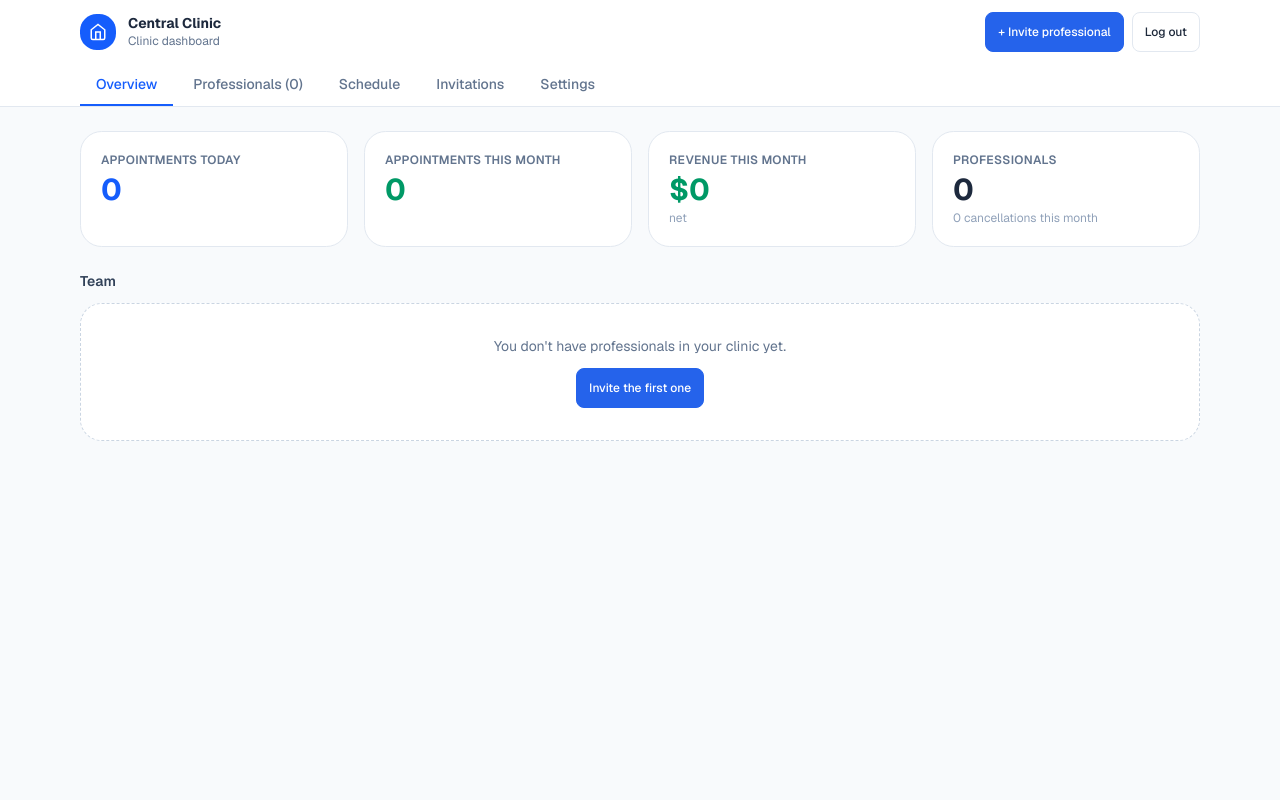
Test case: ClinicaDashboard › renders English agenda and invitation empty states
Expected: the text "Clinic dashboard" is shown, [128, 33, 221, 49]
Click the button "Schedule".
click(370, 85)  # box [323, 64, 416, 106]
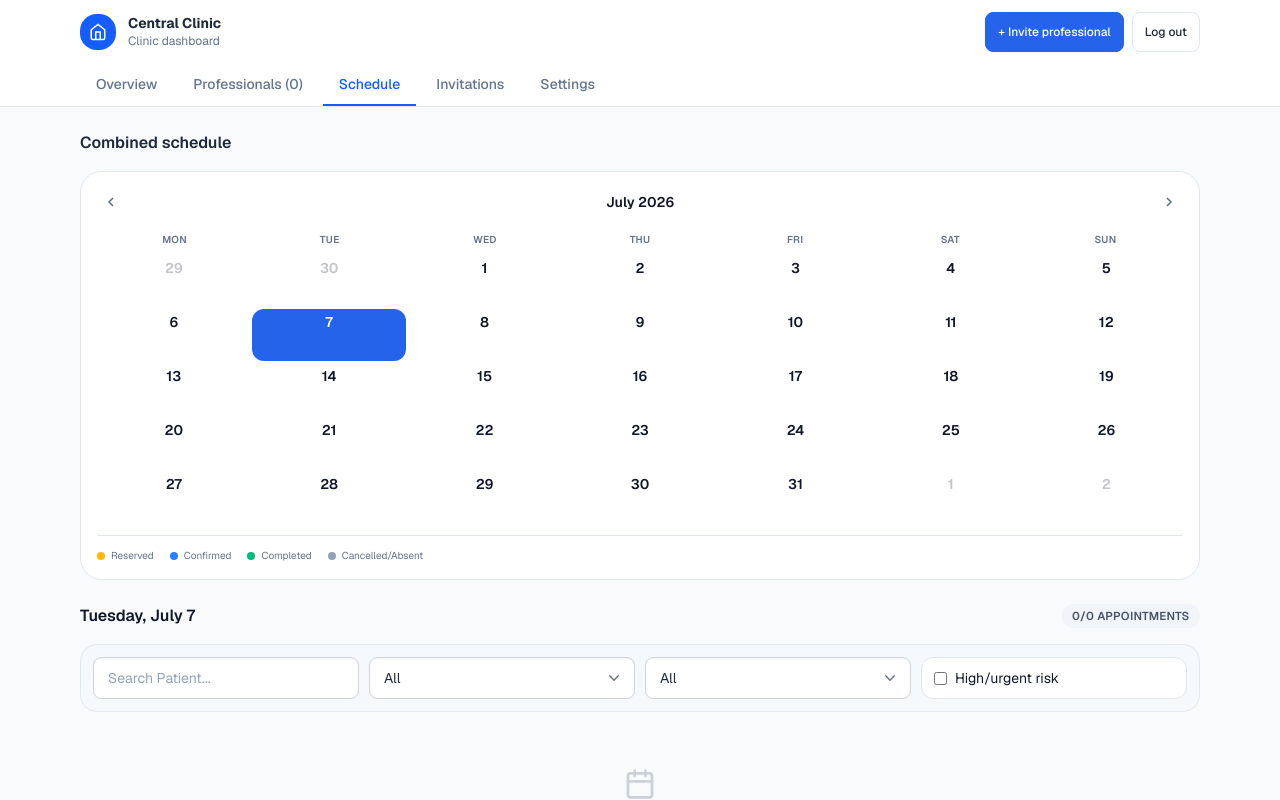
Click the button "Invitations".
click(470, 85)  # box [420, 64, 520, 106]
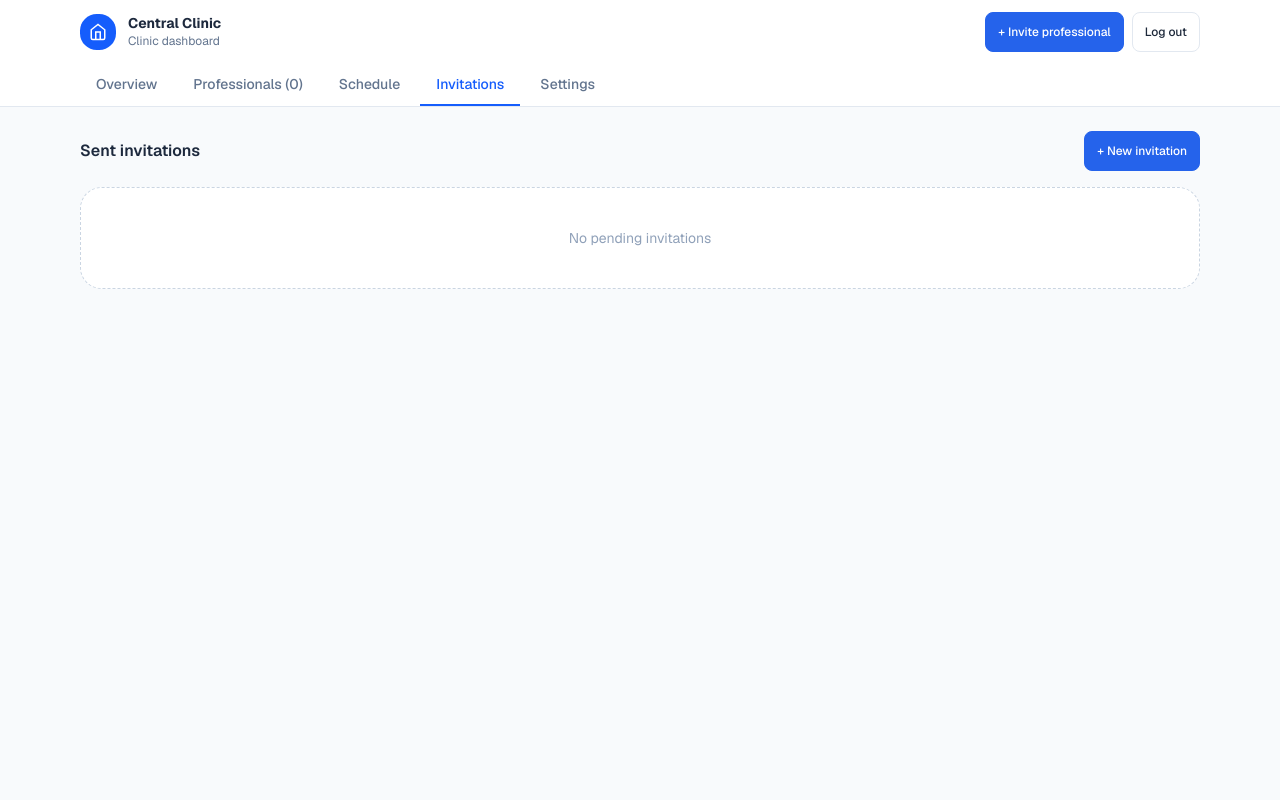
Now the text "No pending invitations" is shown, box [80, 187, 1200, 289]
